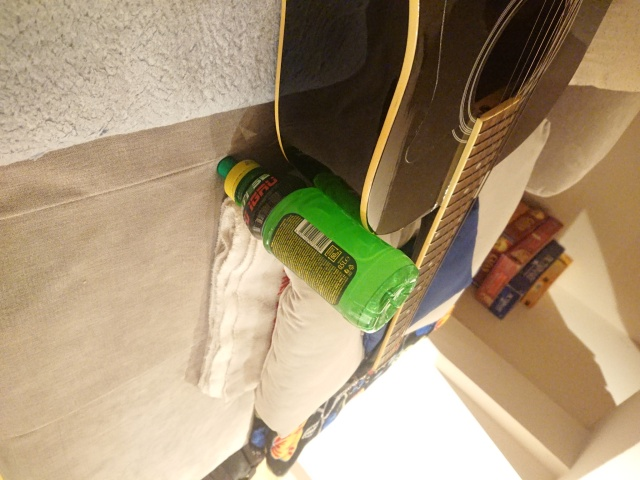Vindi Iso Sport Lemon-Grapefruit 500mL: (214, 153, 422, 332)
